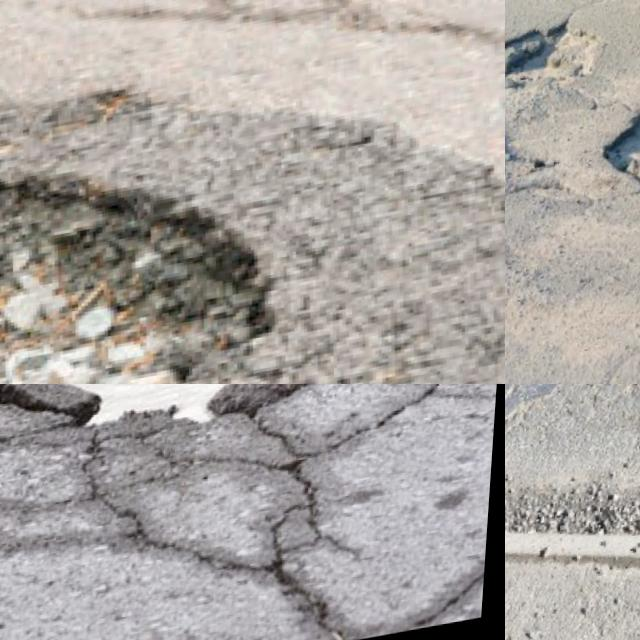Potholes: (0, 71, 323, 384), (0, 384, 470, 516), (541, 10, 640, 384), (505, 0, 619, 133), (505, 384, 594, 460)
